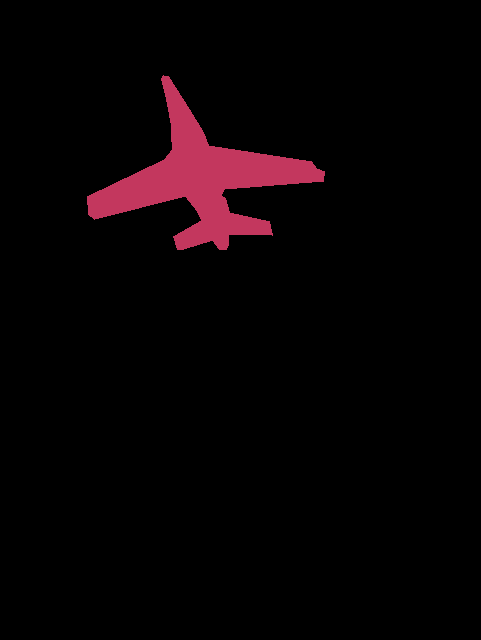Airplane: (87, 75, 325, 249)
